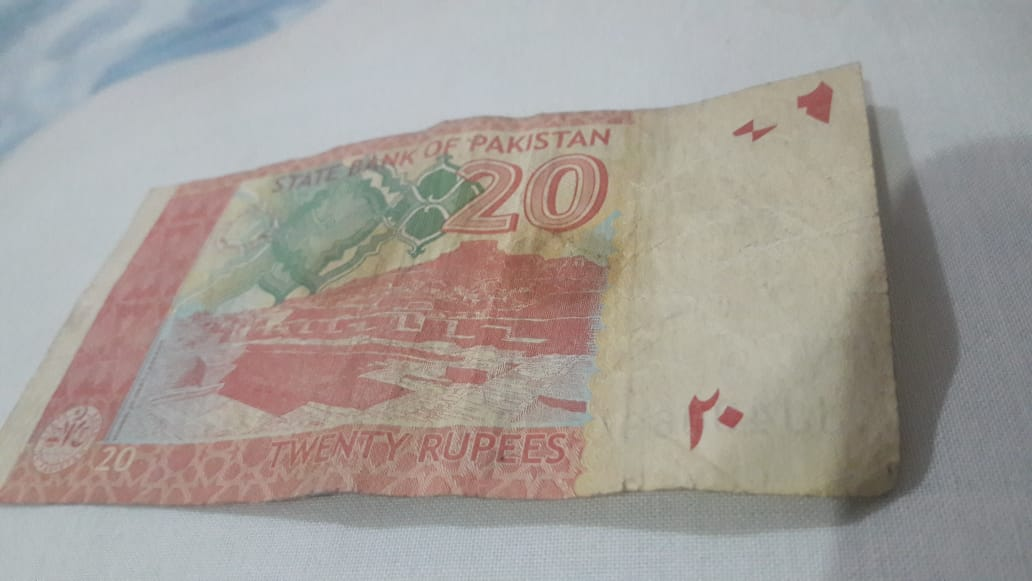20 rupee: (8, 45, 925, 522)
